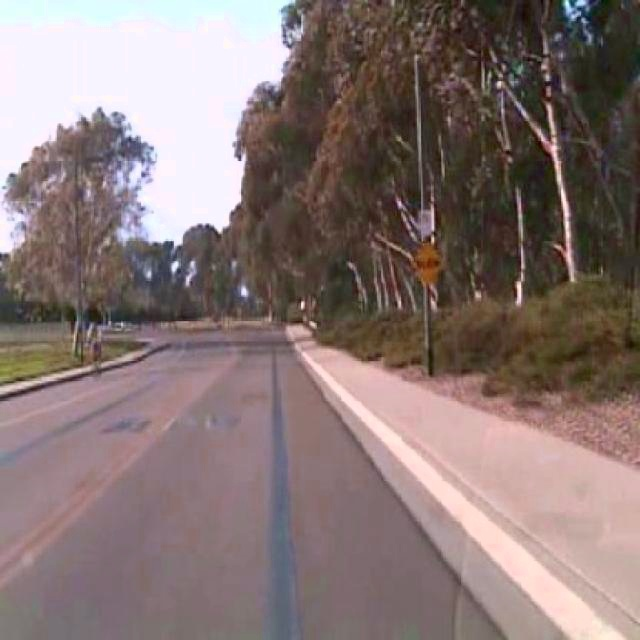slow: (411, 240, 443, 288)
